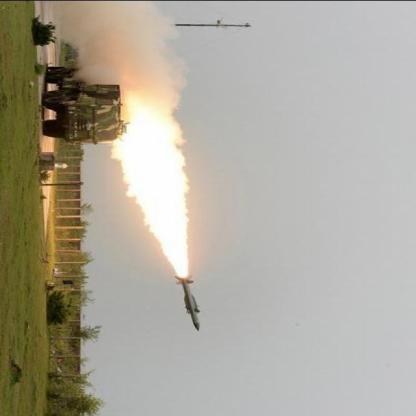MIL_TBM: (173, 268, 206, 334)
